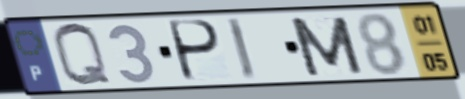3: (105, 21, 158, 86)
8: (354, 10, 409, 78)
I: (223, 15, 261, 83)
M: (285, 14, 367, 78)
P: (168, 18, 225, 85)
Q: (50, 21, 116, 90)
